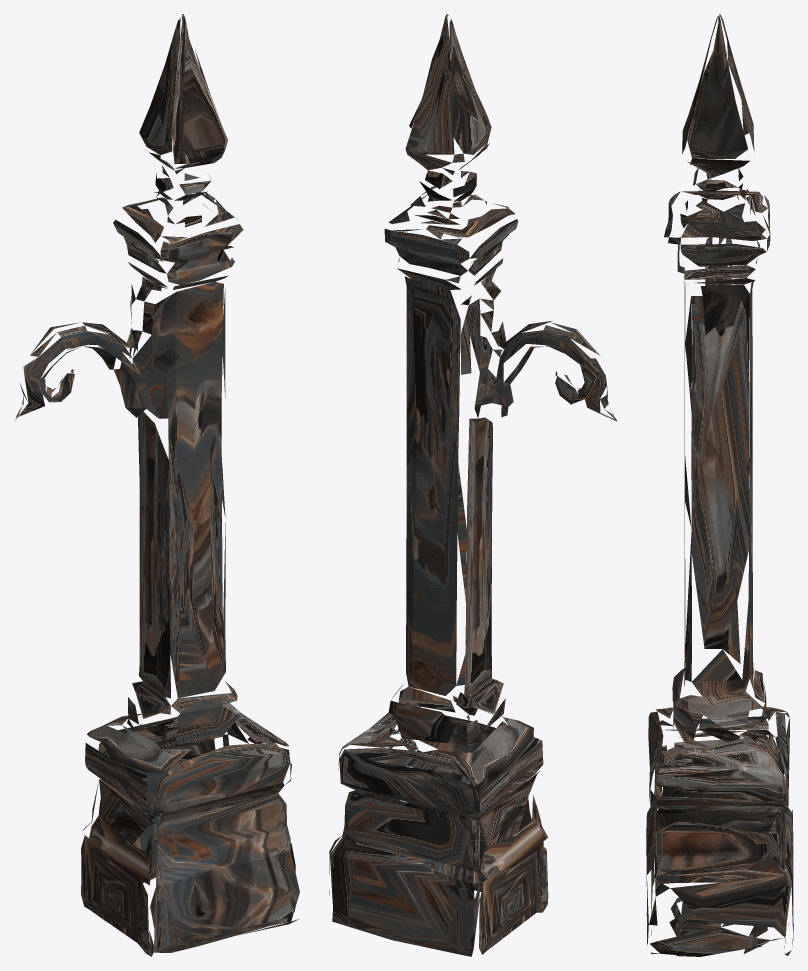
Rendered from iron-fence-corner.glb.
3 views of the same model, side by side, from view 1: azimuth 30°, elevation 25°; view 2: azimuth 150°, elevation 25°; view 3: azimuth 270°, elevation 25° (orthographic).
Parts seen in each view (by area): view 1: mesh; view 2: mesh; view 3: mesh.
Part boxes in pixels (x1,y1,x2,y2): mesh: (15, 14, 299, 956); mesh: (329, 14, 617, 956); mesh: (646, 14, 793, 956).
Bounding box in the file's own units: 0.5894 × 1.99 × 0.2943.
1 material, 1 textured.
